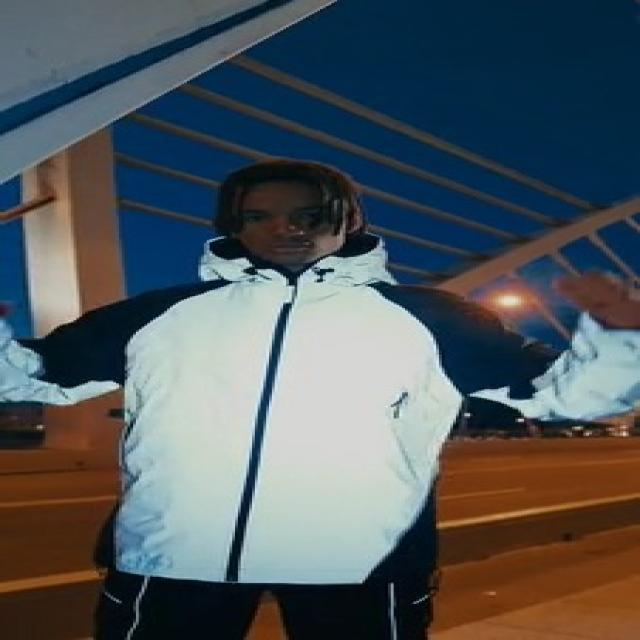Jacket_Wearer: (0, 249, 640, 640)
Person: (0, 174, 640, 640)
